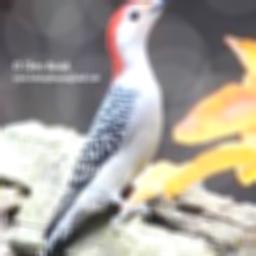Woodpecker: (26, 0, 183, 256)
